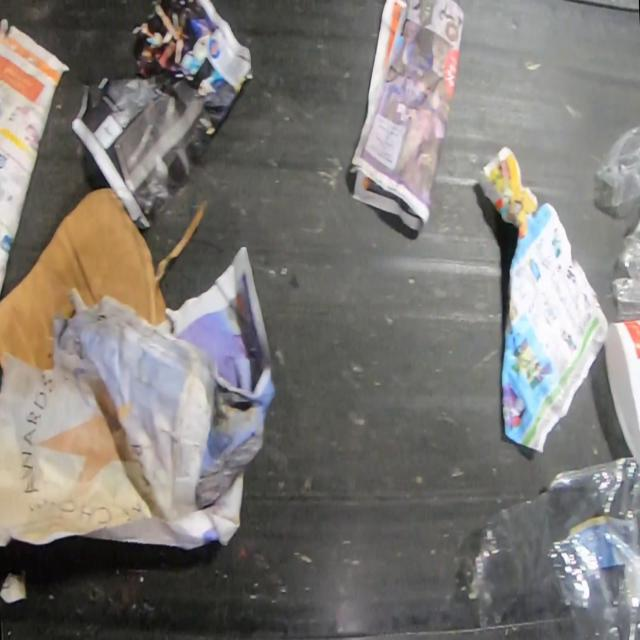cardboard: (0, 186, 206, 372)
rigid_plastic: (594, 125, 640, 321), (602, 321, 640, 456)
soft_plastic: (467, 454, 640, 639)
